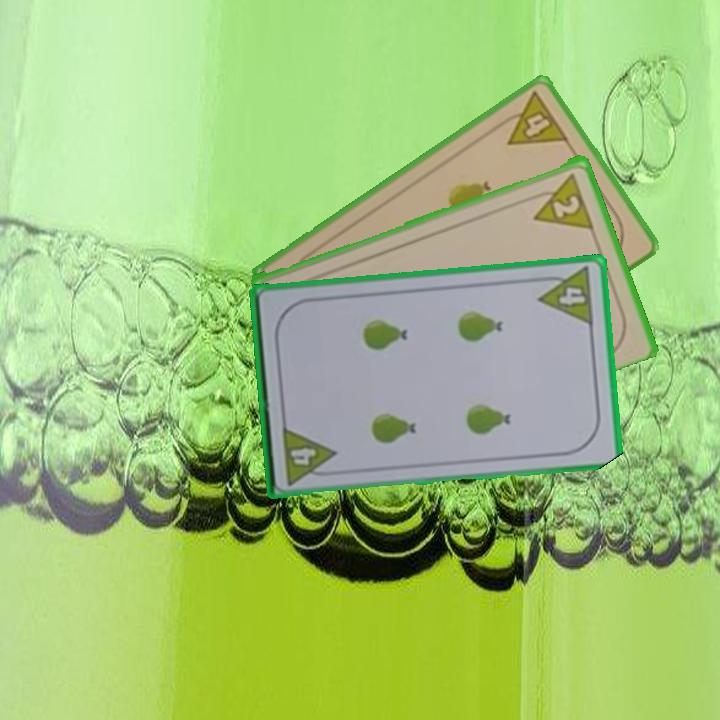2p: (525, 169, 596, 231)
4p: (492, 88, 572, 148), (534, 263, 597, 329), (278, 422, 339, 488)
